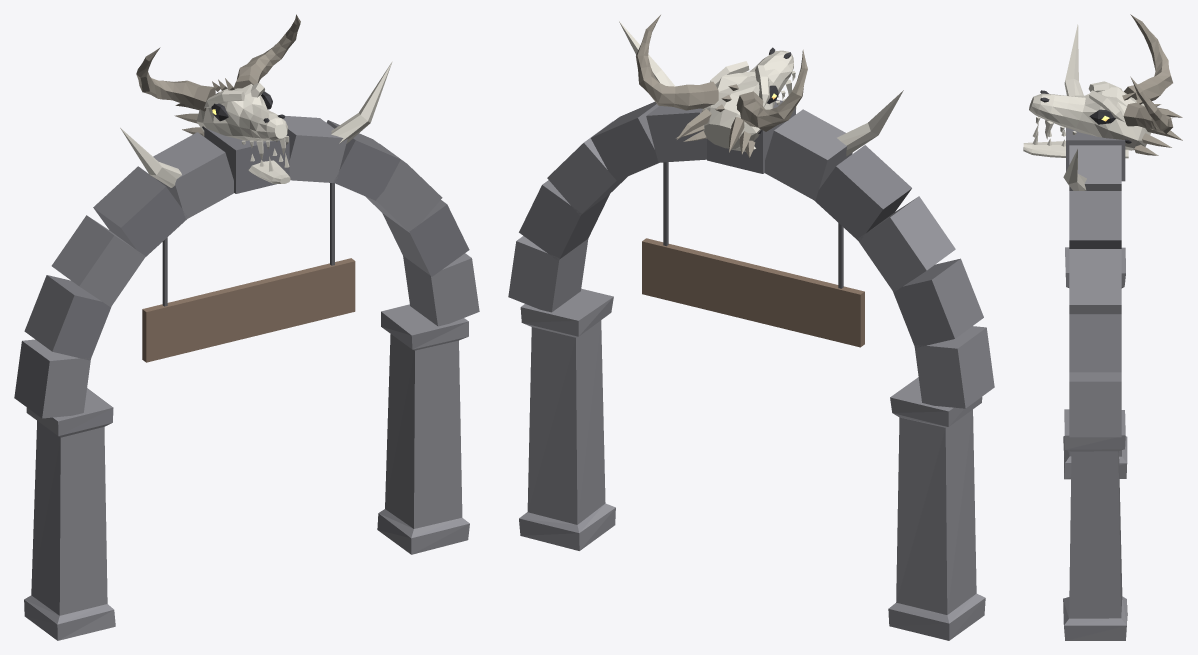
Rendered from Gate_EggRoad_v3.glb.
3 renders of one model, left to right at view 1: azimuth 30°, elevation 25°; view 2: azimuth 150°, elevation 25°; view 3: azimuth 270°, elevation 25°, orthographic. The views are drawn at different scales.
Parts seen in each view (by area): view 1: Stone, StoneDark, Sign, Bones, Horns, Iron; view 2: Stone, StoneDark, Sign, Bones, Horns, Iron; view 3: Stone, StoneDark, Bones, Horns, Sockets.
Boxes of the visible parts, x1,y1,x2,y2 form: Stone: (14, 116, 479, 640); StoneDark: (24, 120, 469, 360); Sign: (142, 258, 355, 362); Bones: (120, 61, 392, 187); Horns: (136, 14, 300, 136); Iron: (162, 183, 334, 306); Stone: (508, 106, 994, 640); StoneDark: (519, 99, 983, 347); Sign: (642, 238, 864, 347); Bones: (619, 21, 903, 156); Horns: (636, 15, 807, 157); Iron: (663, 162, 843, 288); Stone: (1063, 145, 1127, 640); StoneDark: (1066, 127, 1125, 372); Bones: (1023, 24, 1150, 190); Horns: (1122, 14, 1182, 155); Sockets: (1040, 90, 1131, 143).
Size of the model in its own units: 27.2 by 31.75 by 9.17.
